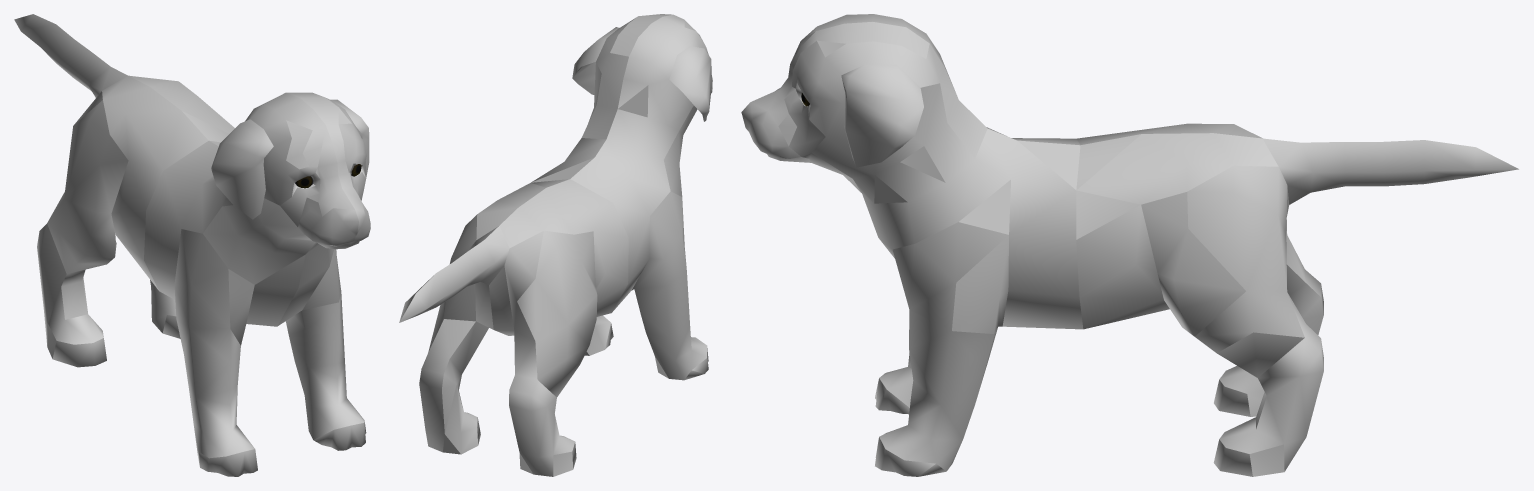
The model's file is labrador_retriever_3d.fbx.
The picture shows the model from 3 angles, left to right: view 1: azimuth 30°, elevation 25°; view 2: azimuth 150°, elevation 25°; view 3: azimuth 270°, elevation 25°; orthographic projection. The views are drawn at different scales.
Parts seen in each view (by area): view 1: vsn_mesh_1__mesh_1_; view 2: vsn_mesh_1__mesh_1_; view 3: vsn_mesh_1__mesh_1_.
Boxes of the visible parts, bbox=[...] form: vsn_mesh_1__mesh_1_: bbox=[14, 14, 370, 476]; vsn_mesh_1__mesh_1_: bbox=[399, 14, 712, 476]; vsn_mesh_1__mesh_1_: bbox=[741, 14, 1518, 476].
Size of the model in its own units: 149 by 328 by 553.
